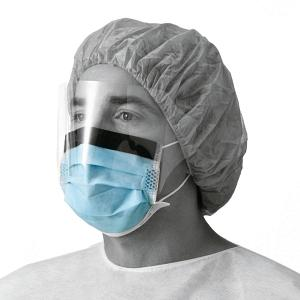Wearing Mask: (45, 7, 267, 244)
